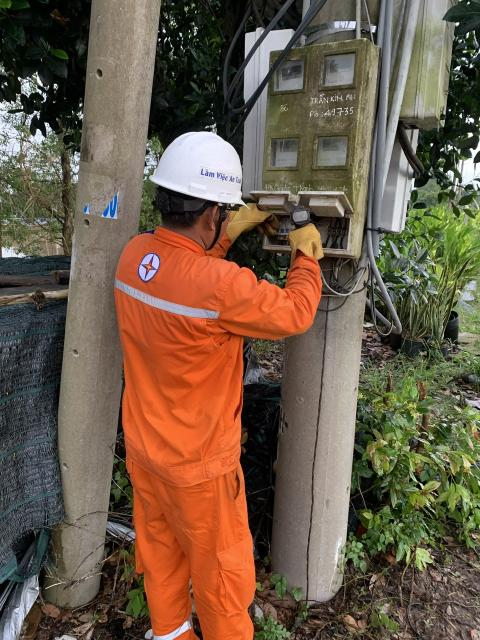gloves: (207, 191, 282, 243), (264, 221, 332, 272)
helmet: (149, 116, 268, 221)
